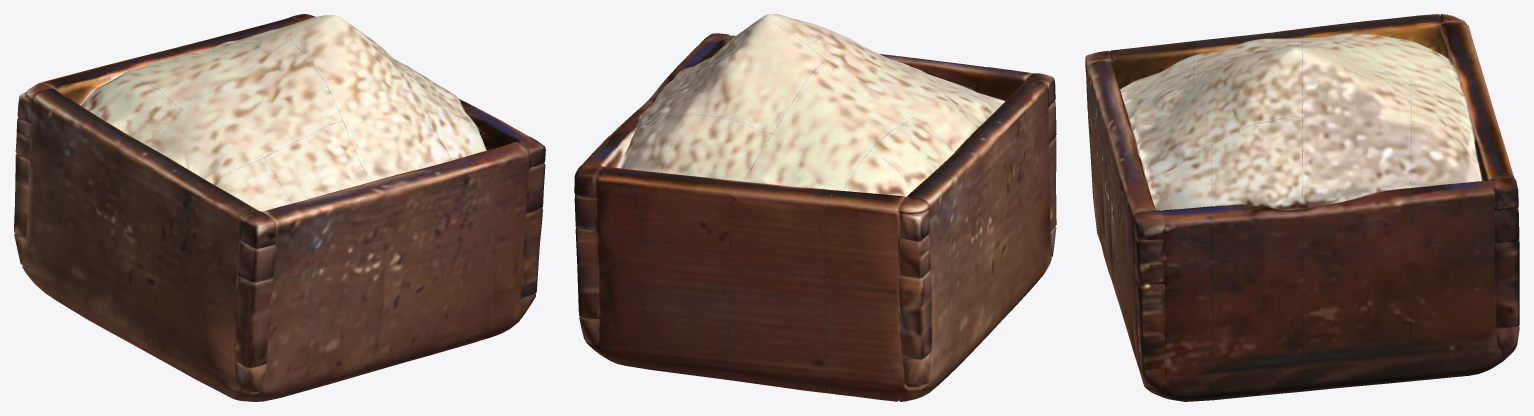
The model's file is rice_wood.glb.
3 views of the same model, side by side, from view 1: azimuth 30°, elevation 25°; view 2: azimuth 150°, elevation 25°; view 3: azimuth 270°, elevation 25° (orthographic).
Parts seen in each view (by area): view 1: tmp0az2a1mqobj; view 2: tmp0az2a1mqobj; view 3: tmp0az2a1mqobj.
Part boxes in pixels (box(x1,y1,x2,y2)): tmp0az2a1mqobj: box(14, 14, 545, 401); tmp0az2a1mqobj: box(574, 14, 1056, 401); tmp0az2a1mqobj: box(1085, 14, 1519, 401).
Size of the model in its own units: 0.9994 by 0.7661 by 0.9996.
Materials: 1 (1 with a texture image).
